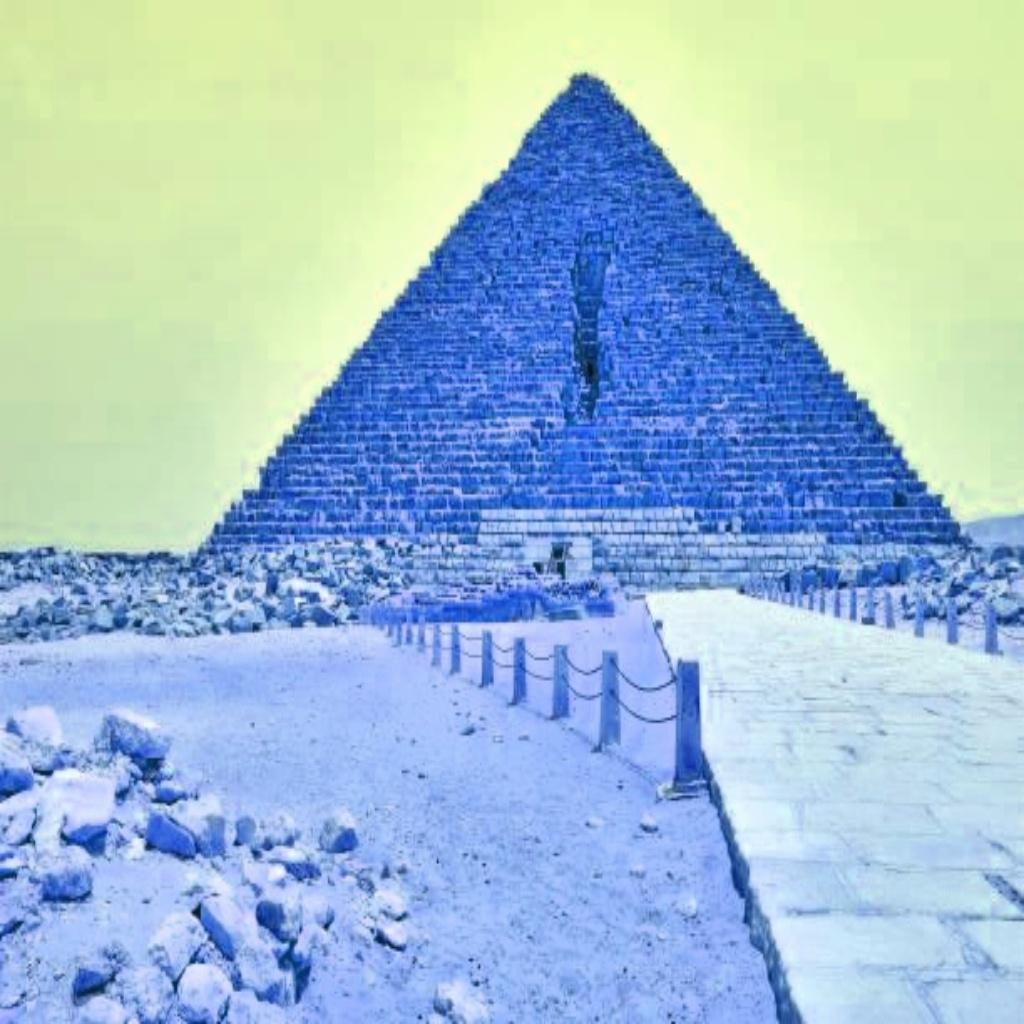Great Pyramids of Giza: (194, 66, 964, 578)
